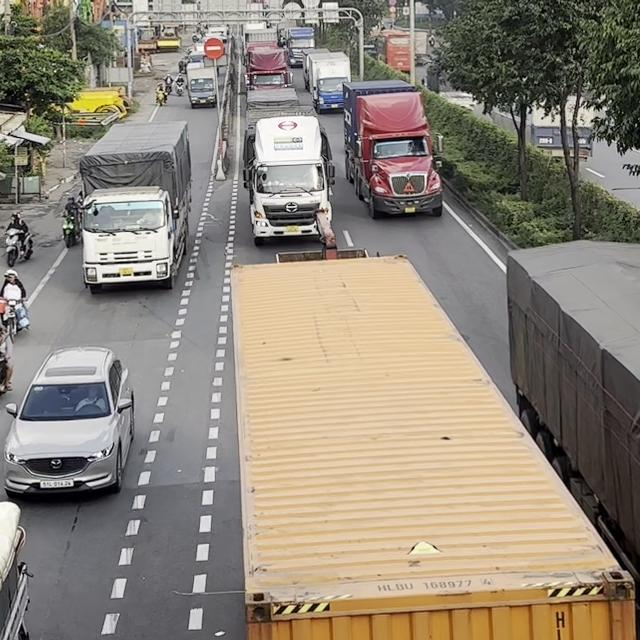car: (2, 344, 135, 499)
motorcycle: (0, 295, 30, 338), (3, 225, 33, 267), (0, 322, 13, 396), (60, 210, 79, 248), (154, 84, 168, 106), (174, 76, 184, 96)
truck: (229, 246, 636, 639), (505, 237, 639, 638), (77, 119, 192, 293), (341, 79, 444, 219), (239, 104, 336, 247), (0, 499, 32, 639), (308, 53, 352, 114), (245, 43, 294, 90), (184, 62, 217, 108), (279, 26, 315, 67)
